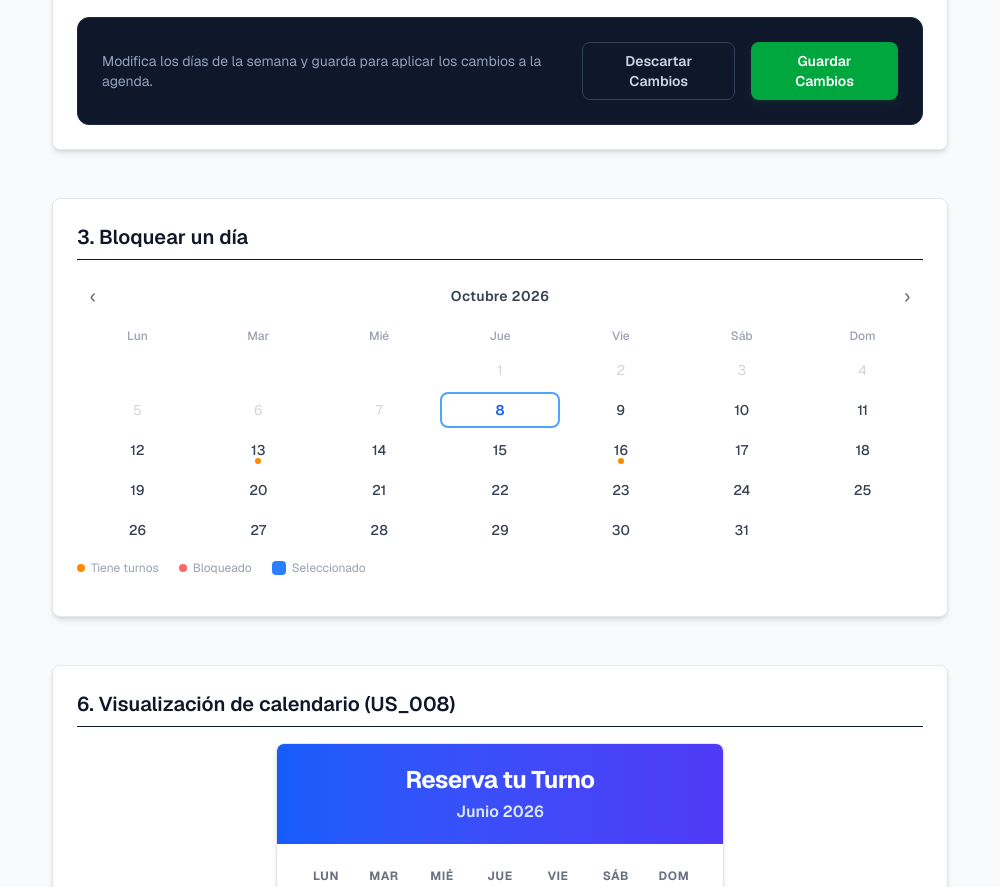
Test case: CP-006: Confirmar/Abortar bloqueo de días con reservas › CP-006-01: Debería abrir modal, confirmar el bloqueo y cancelar turnos visualmente
(page scrolled)
Click the button "13" at x=259, y=450, box x1=198 y1=432 x2=319 y2=468
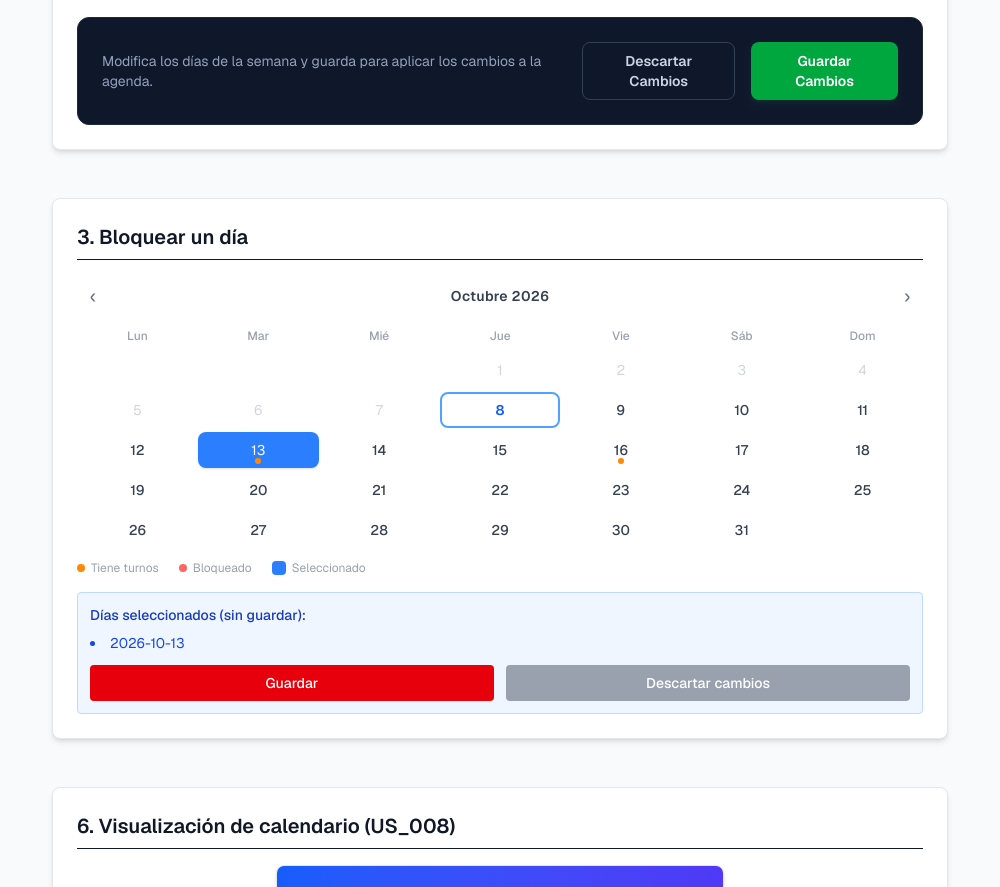
Click the button with test id "btn-guardar" at x=292, y=683, box x1=90 y1=665 x2=494 y2=701
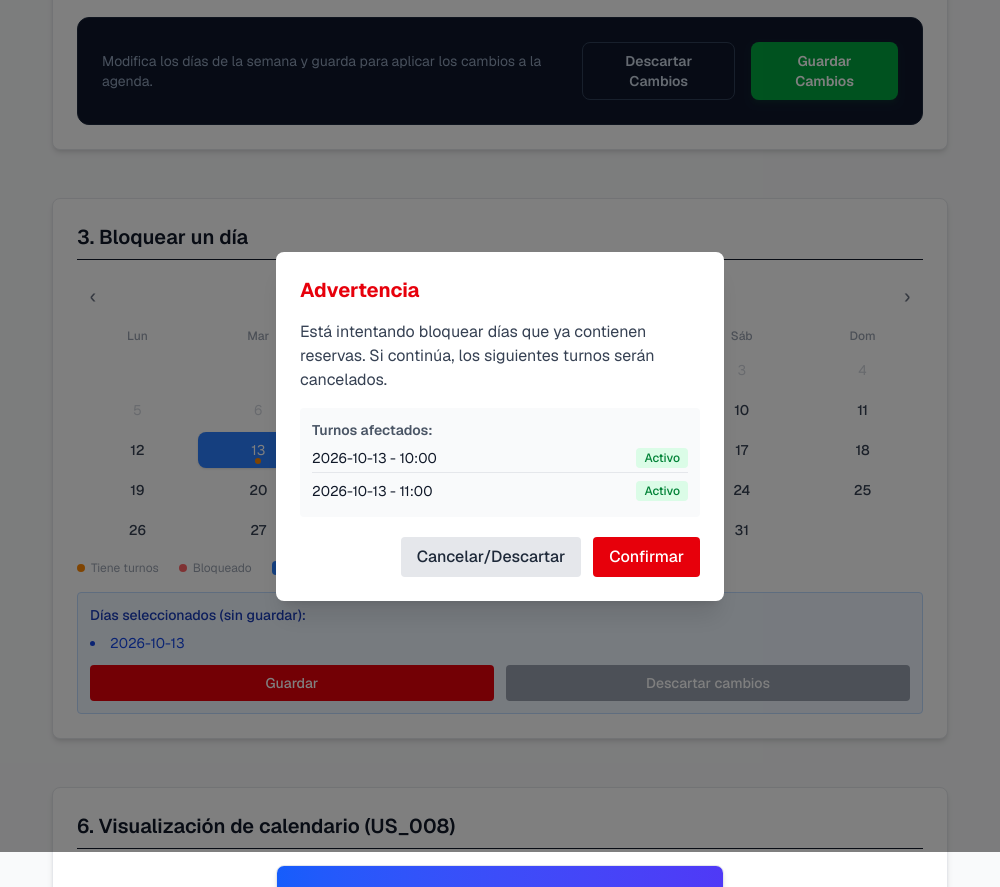
Now the element with test id "modal-advertencia" is shown, box x1=276 y1=252 x2=724 y2=601
Click the button with test id "btn-confirmar-bloqueo" at x=647, y=557, box x1=593 y1=537 x2=700 y2=577
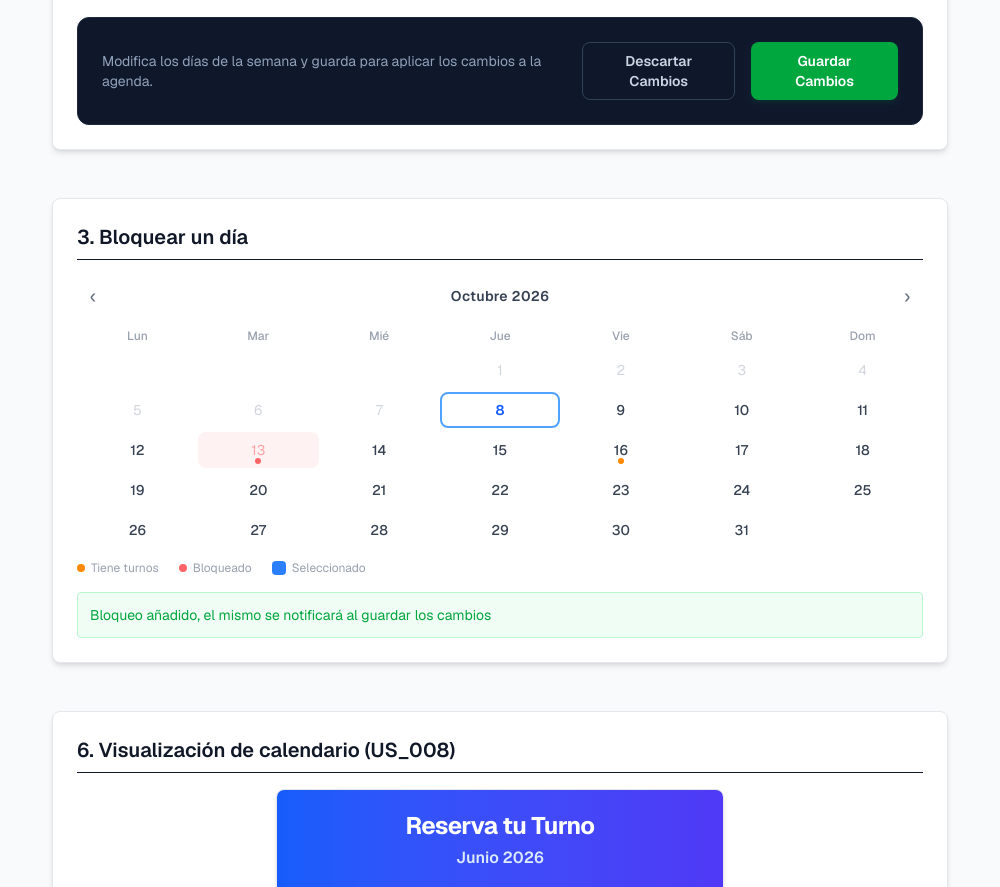
Now the element with test id "modal-advertencia" is gone
Now the text with test id "mensaje-confirmacion" reads "Bloqueo añadido, el mismo se notificará al guardar los cambios", box x1=77 y1=592 x2=923 y2=638
